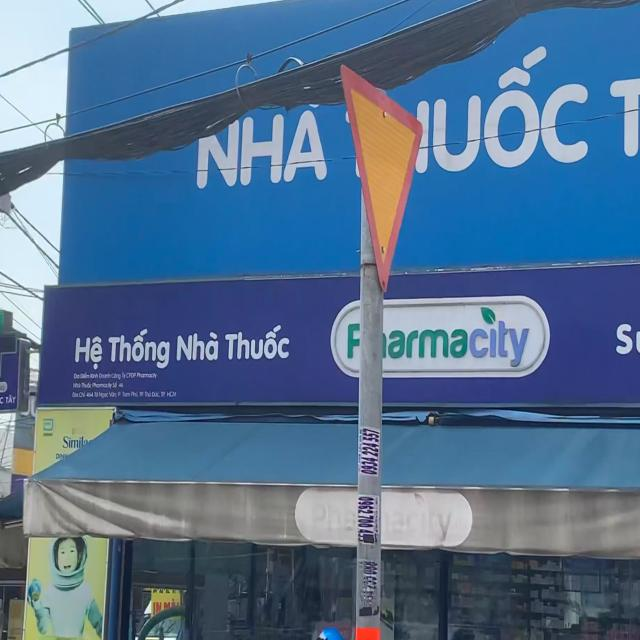Giao voi duong uu tien: (334, 58, 426, 299)
